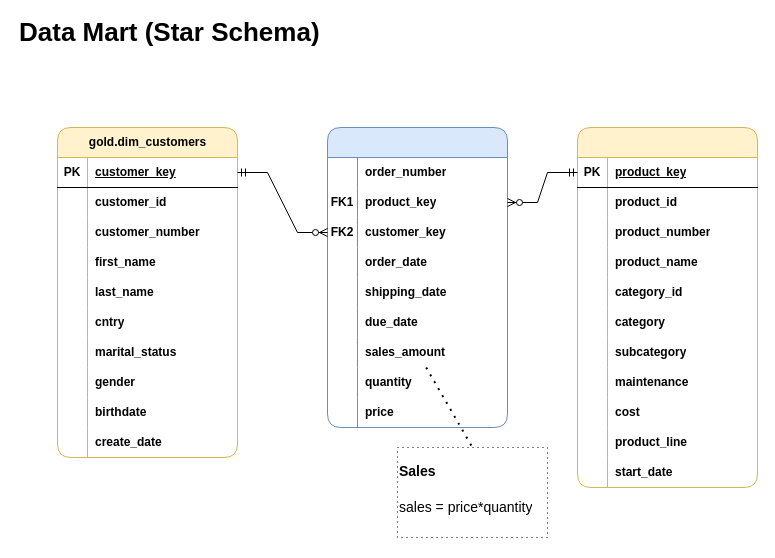
This 775x558 diagram has some shape labels left out. Here are the shapes that lost their labels. From the top down, the box of each, then its label:
(326, 126, 508, 428): gold.fact_sales
(576, 126, 758, 488): gold.dim_products
